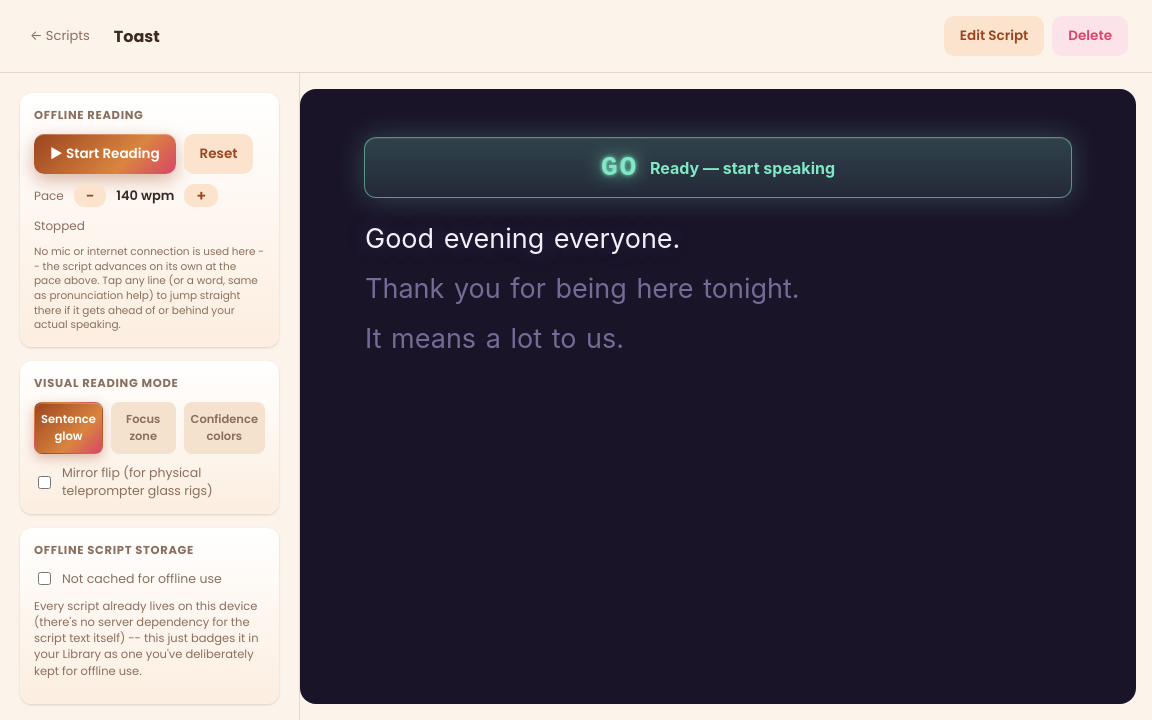
Test: ScriptWorkspace offline reading › adjusts pace with the +/- controls
The width and height of the screenshot is (1152, 720).
Expected: the text "140 wpm" is shown, [114, 186, 176, 206]
Click the button named "Faster". click: (201, 196)
box: [184, 184, 218, 207]
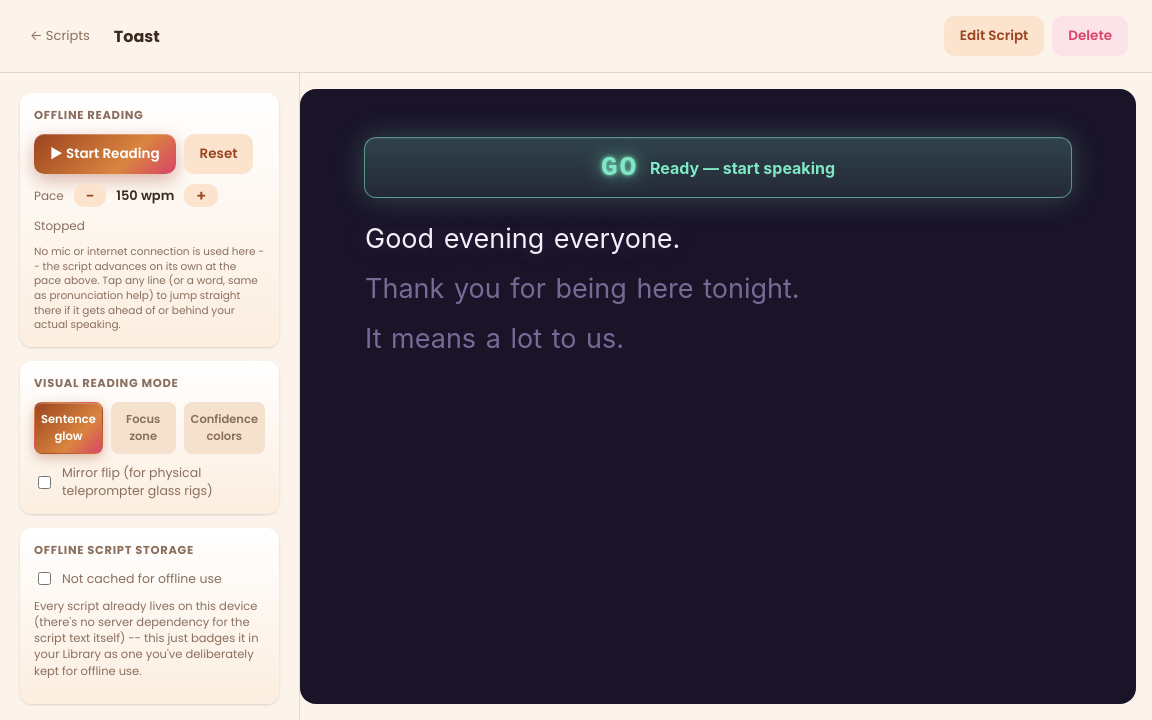
Result: the text "150 wpm" is shown at [114, 186, 176, 206]
Click the button named "Slower". click: (90, 196)
box: [74, 184, 106, 207]
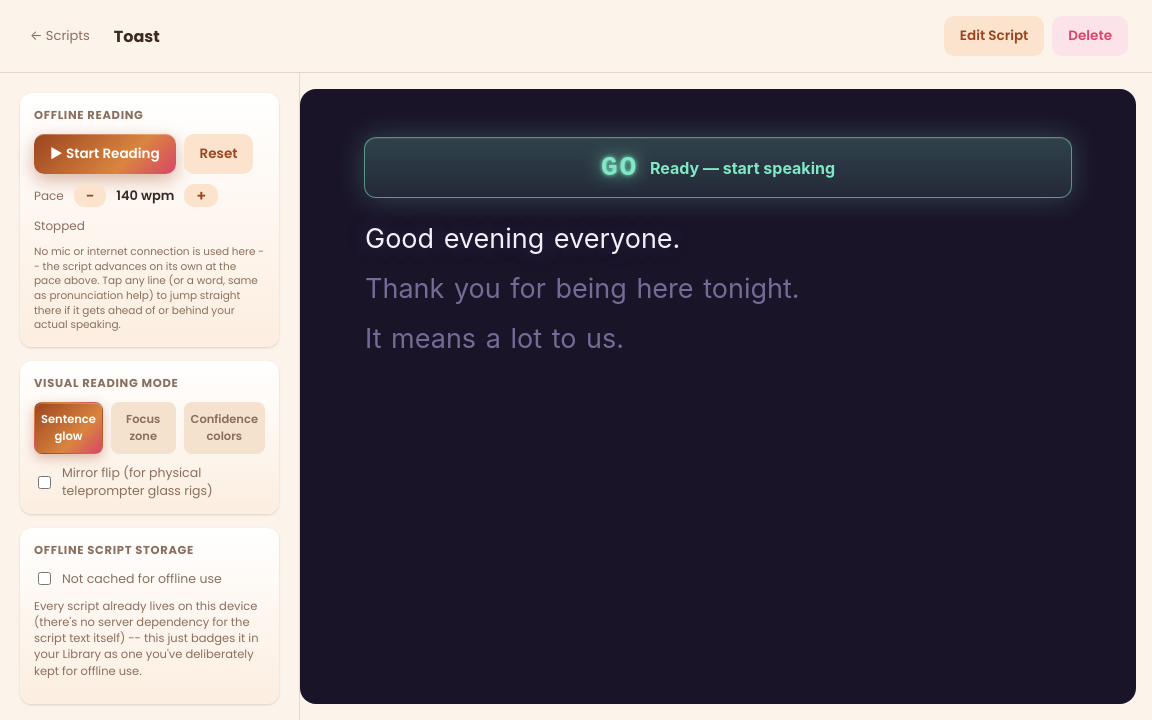
Click the button named "Slower". click: (90, 196)
box: [74, 184, 106, 207]
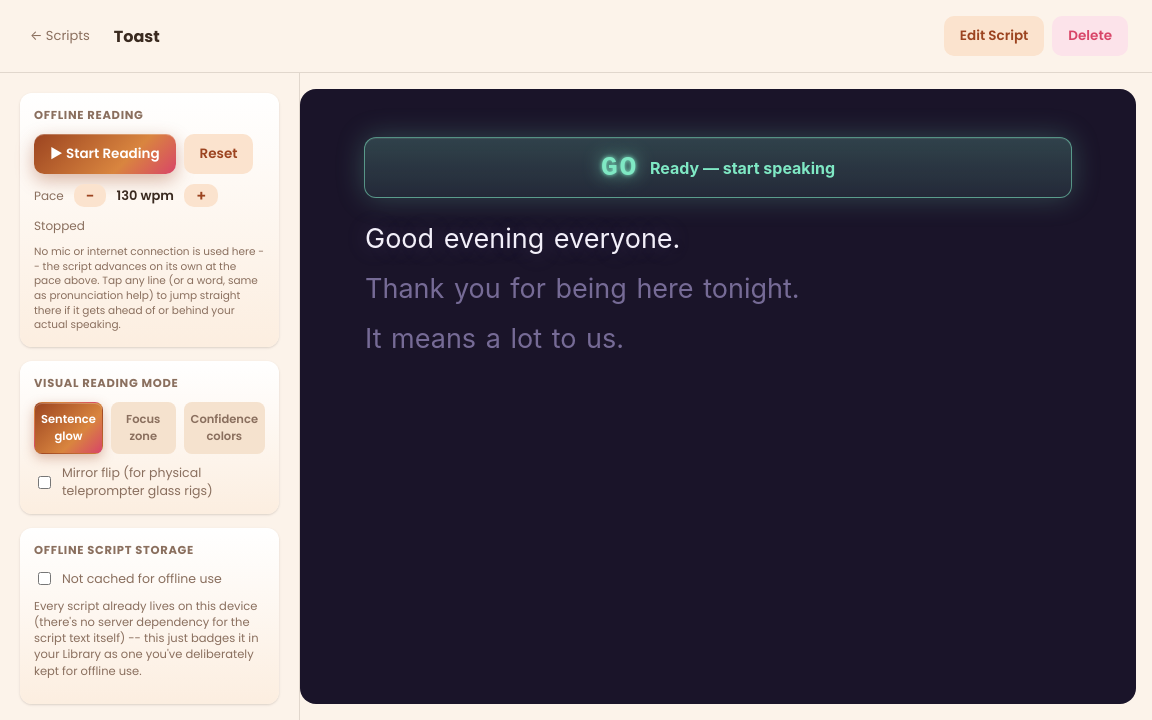
Result: the text "130 wpm" is shown at [114, 186, 176, 206]
